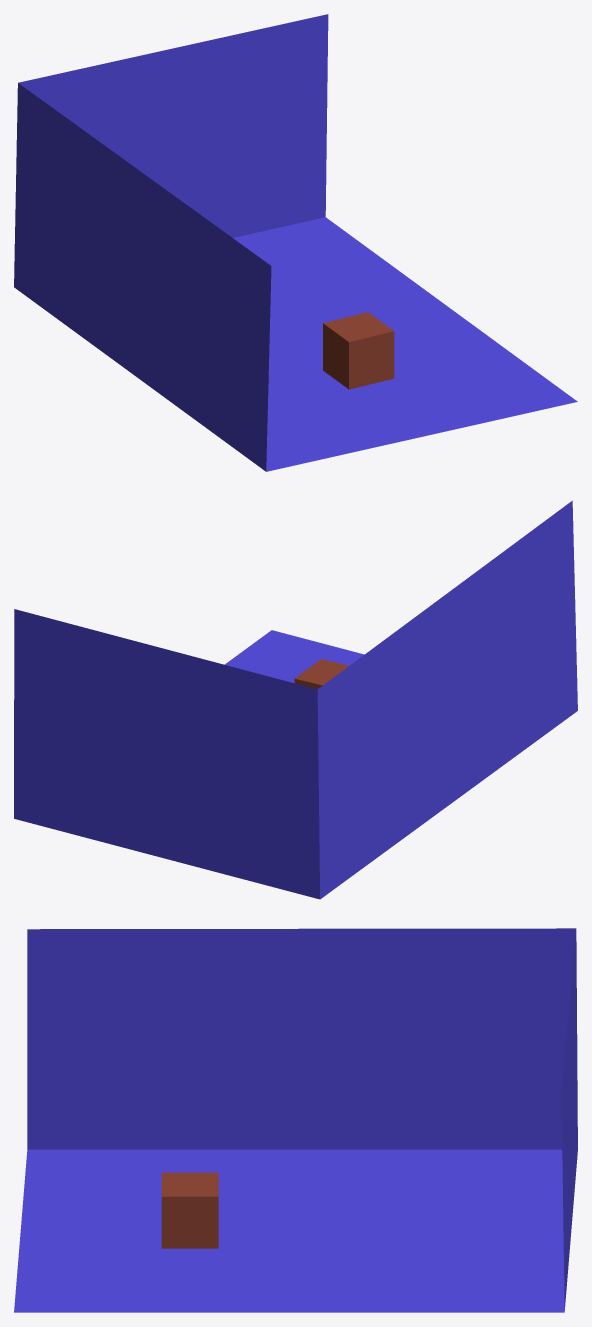
The model's file is test_light_map.glb.
The picture shows the model from 3 angles, top to bottom: view 1: azimuth 30°, elevation 25°; view 2: azimuth 150°, elevation 25°; view 3: azimuth 270°, elevation 25°; orthographic projection. The views are drawn at different scales.
Parts seen in each view (by area): view 1: Plane, Cube; view 2: Plane, Cube; view 3: Plane, Cube.
Part boxes in pixels (bbox=[...]): Plane: bbox=[14, 14, 577, 471]; Cube: bbox=[323, 312, 394, 389]; Plane: bbox=[14, 500, 577, 899]; Cube: bbox=[294, 659, 348, 689]; Plane: bbox=[14, 928, 577, 1312]; Cube: bbox=[161, 1172, 218, 1248].
Bounding box in the file's own units: 13.54 × 8.63 × 19.75.
